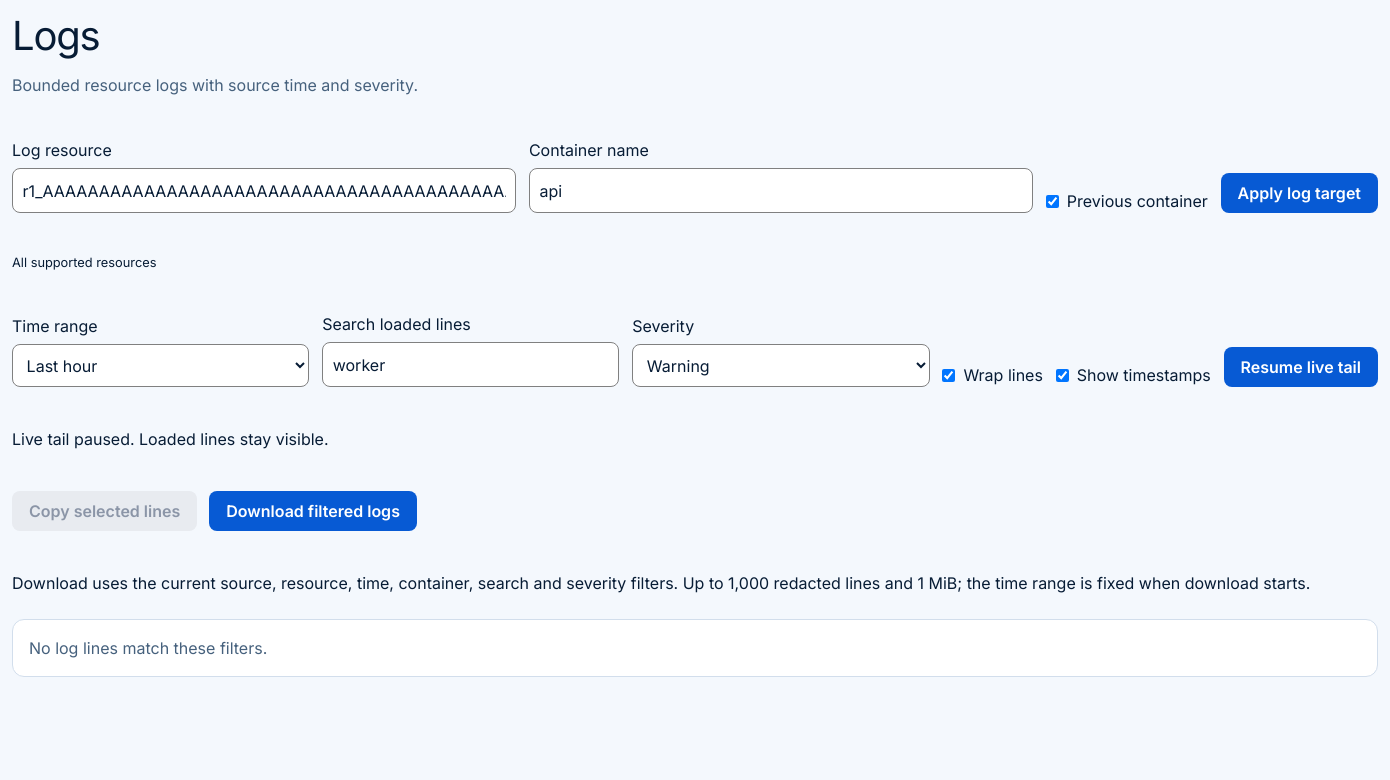
Test: filtered log download › saves no file for incomplete or policy-denied downloads (true)
Click the button "Download filtered logs" at (313, 511), box top-left (209, 491), bottom-right (417, 531)
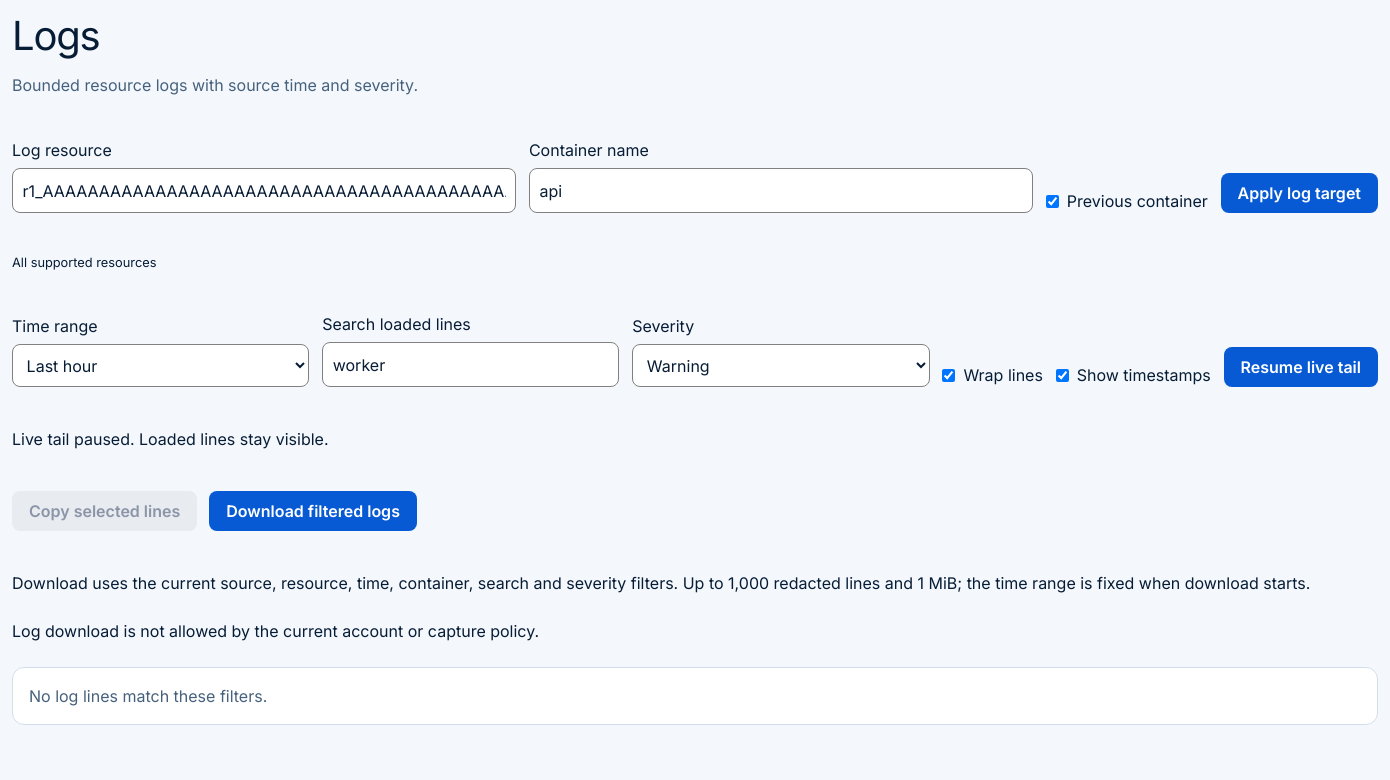
Result: the text "Log download is not allowed by the current account or capture policy." is shown at top-left (12, 621), bottom-right (539, 641)
